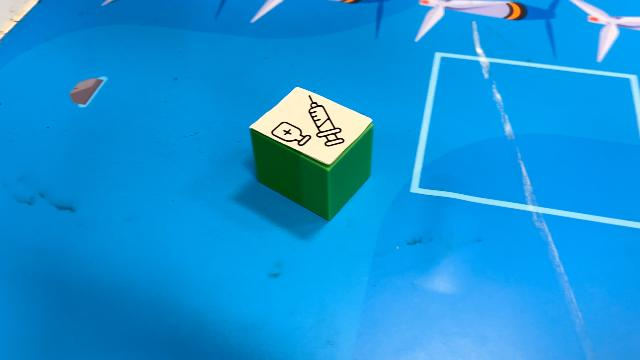syringe: (249, 87, 373, 221)
